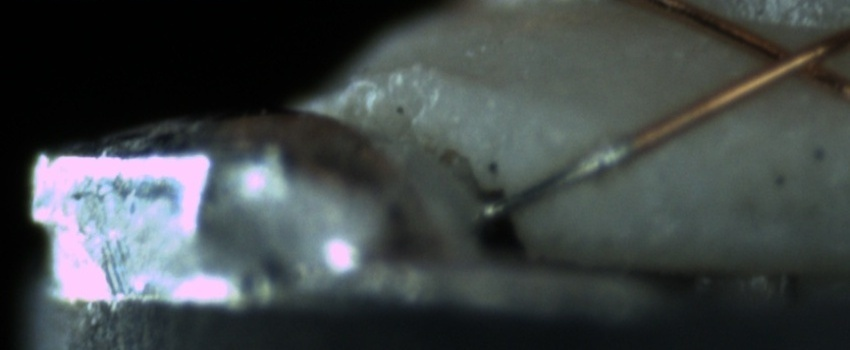CL: (737, 20, 845, 94)
TS: (476, 139, 632, 222)
TTCW: (470, 118, 667, 223)
